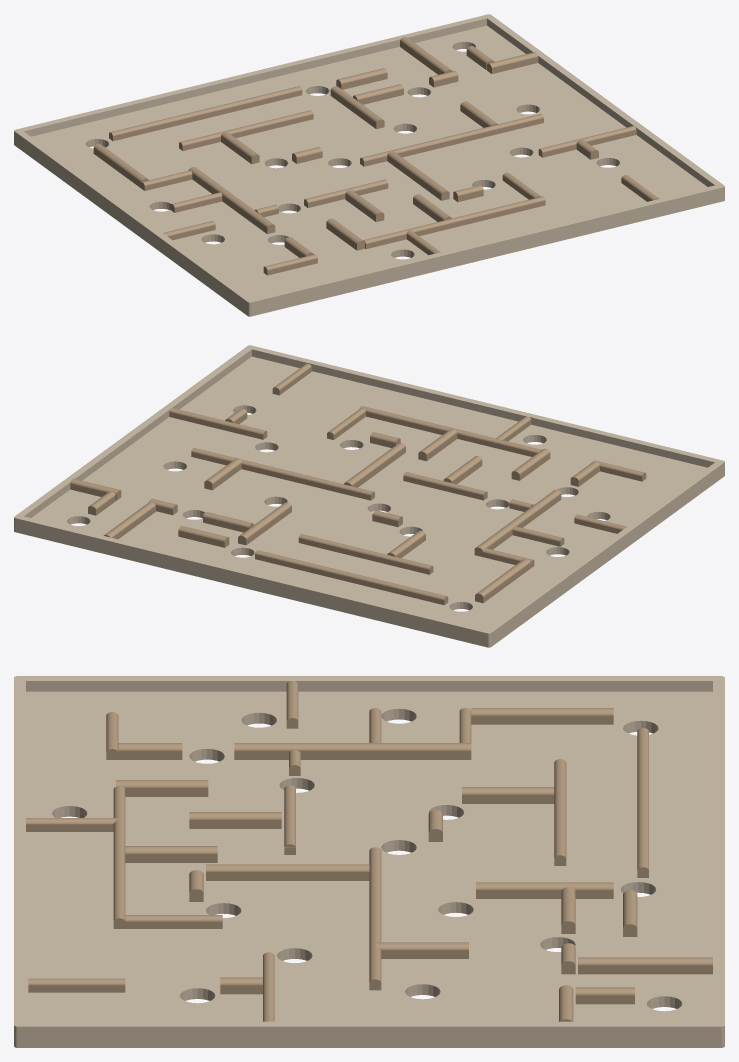
Rendered from board_v1.glb.
3 renders of one model, top to bottom at view 1: azimuth 30°, elevation 25°; view 2: azimuth 150°, elevation 25°; view 3: azimuth 270°, elevation 25°, orthographic. The views are drawn at different scales.
Visible parts, largest first — view 1: Mesh_Mesh_head_geo.001_lambert2SG.001; view 2: Mesh_Mesh_head_geo.001_lambert2SG.001; view 3: Mesh_Mesh_head_geo.001_lambert2SG.001.
Part boxes in pixels (x1,y1,x2,y2): Mesh_Mesh_head_geo.001_lambert2SG.001: (14, 14, 724, 316); Mesh_Mesh_head_geo.001_lambert2SG.001: (14, 345, 724, 647); Mesh_Mesh_head_geo.001_lambert2SG.001: (14, 676, 724, 1047).
Bounding box in the file's own units: 350 × 11 × 300.
